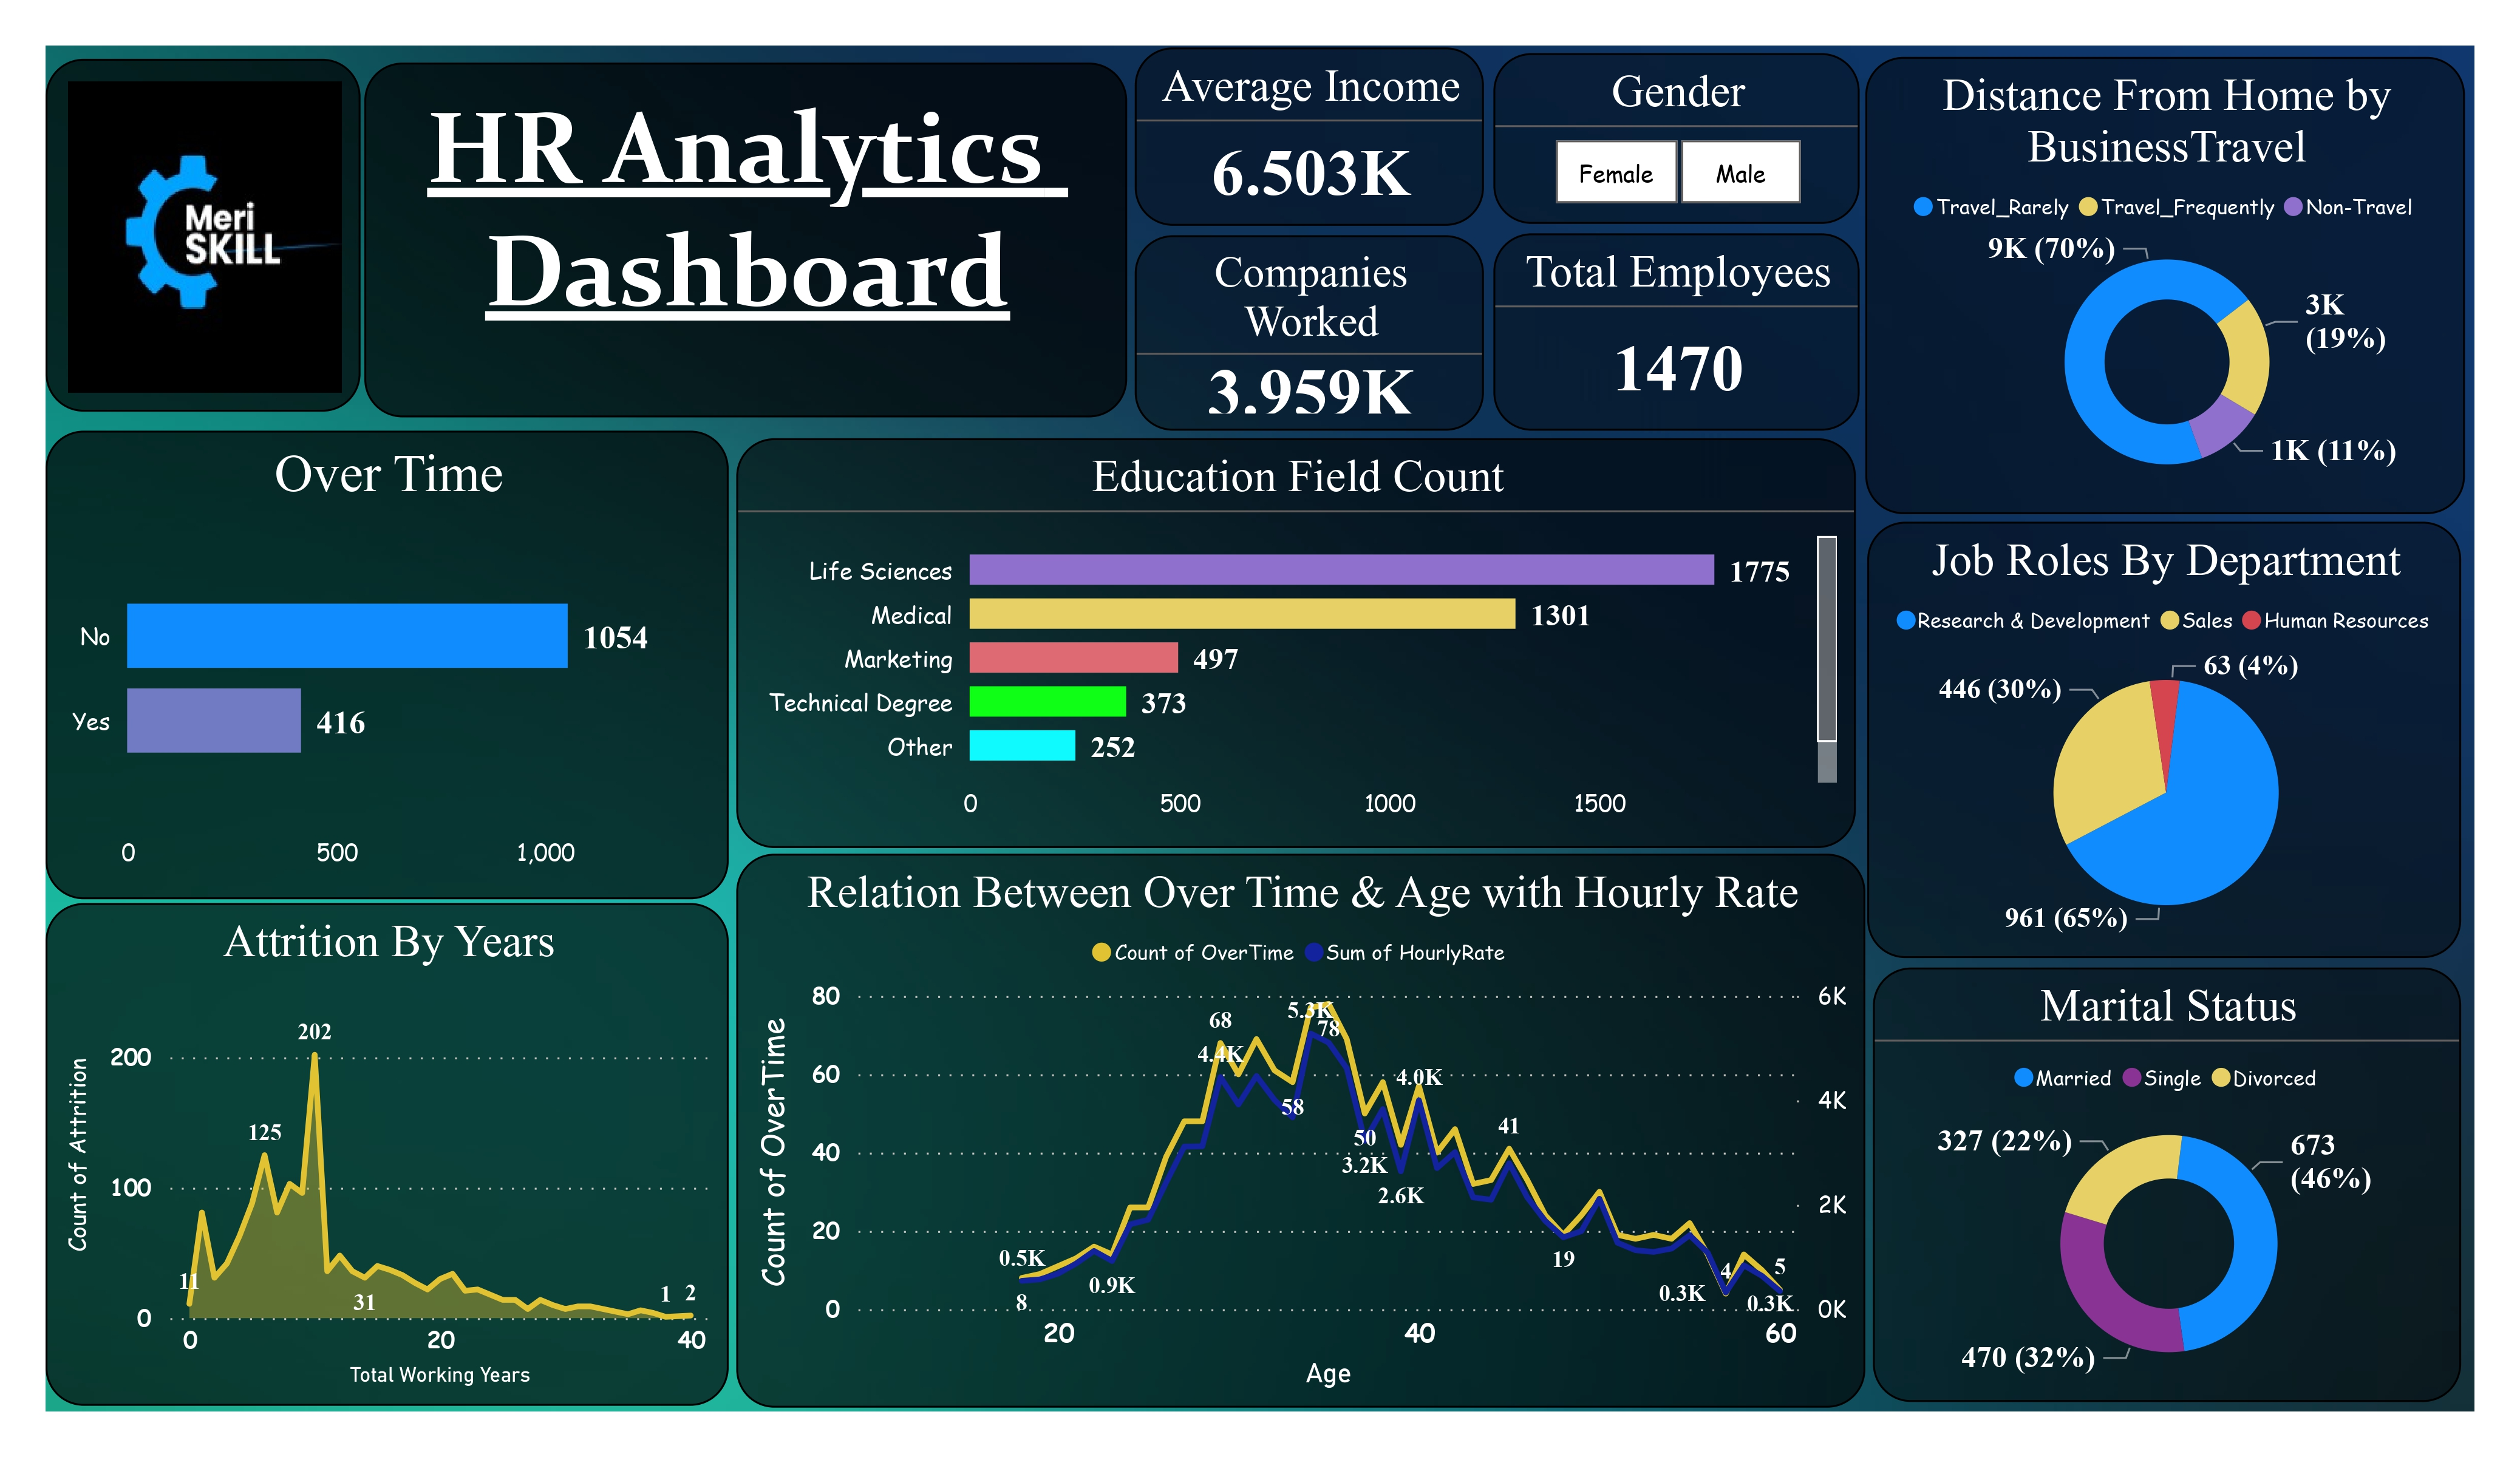

The dashboard page shown, as its layout file describes it:
{"tool":"powerbi","page":{"name":"Page 1","canvas":[1280,720],"ordinal":0},"visuals":[{"type":"card","title":"Total Employees","fields":{"Values":["Sum(HR-Employee-Attrition.EmployeeCount)"]},"box":[762.8,98.6,192.9,104.4],"z":0},{"type":"pieChart","title":"Job Roles By Department","fields":{"Category":["HR-Employee-Attrition.Department"],"Y":["CountNonNull(HR-Employee-Attrition.Department)"]},"box":[960.1,250.9,313,230.6],"z":1000},{"type":"donutChart","title":"Marital Status ","fields":{"Category":["HR-Employee-Attrition.MaritalStatus"],"Y":["CountNonNull(HR-Employee-Attrition.MaritalStatus)"]},"box":[963,485.8,310,229.1],"z":2000},{"type":"card","title":"Average Income","fields":{"Values":["Avg(HR-Employee-Attrition.MonthlyIncome)"]},"box":[574,1,184,94.3],"z":3000},{"type":"clusteredBarChart","title":"Over Time ","fields":{"Category":["HR-Employee-Attrition.OverTime"],"Y":["CountNonNull(HR-Employee-Attrition.OverTime)"]},"box":[0,203,359.7,246.5],"z":4000},{"type":"slicer","title":"Gender","fields":{"Values":["HR-Employee-Attrition.Gender"]},"box":[762.8,4.4,192.9,89.9],"z":5000},{"type":"card","title":"Companies Worked","fields":{"Values":["Sum(HR-Employee-Attrition.NumCompaniesWorked)"]},"box":[574.3,100,184.2,103],"z":6000},{"type":"lineChart","title":"Relation Between  Over Time & Age with Hourly Rate","fields":{"Category":["HR-Employee-Attrition.Age"],"Y":["CountNonNull(HR-Employee-Attrition.OverTime)"],"Y2":["Sum(HR-Employee-Attrition.HourlyRate)"]},"box":[364,426.4,594.6,291.5],"z":7000},{"type":"areaChart","title":" Attrition By Years","fields":{"Category":["HR-Employee-Attrition.TotalWorkingYears"],"Y":["CountNonNull(HR-Employee-Attrition.Attrition)"]},"box":[0,452,359.7,265],"z":8000},{"type":"clusteredBarChart","title":" Education Field Count","fields":{"Category":["HR-Employee-Attrition.EducationField"],"Y":["Sum(HR-Employee-Attrition.Education)"]},"box":[364,207.4,590.3,216.1],"z":9000},{"type":"donutChart","title":"Distance From Home by BusinessTravel","fields":{"Category":["HR-Employee-Attrition.BusinessTravel"],"Y":["Sum(HR-Employee-Attrition.DistanceFromHome)"]},"box":[958.6,5.8,316,241],"z":10000},{"type":"textbox","box":[168,8.7,402,187],"z":11000},{"type":"image","box":[0,7,166,186],"z":12000}]}

Visuals, with their boxes in screenshot pixels (x1, y1, x2, y2):
"Total Employees" card: crop(1493, 233, 1859, 430)
"Job Roles By Department" pieChart: crop(1867, 521, 2461, 959)
"Marital Status " donutChart: crop(1873, 967, 2461, 1402)
"Average Income" card: crop(1135, 47, 1484, 226)
"Over Time " clusteredBarChart: crop(46, 430, 728, 898)
"Gender" slicer: crop(1493, 54, 1859, 225)
"Companies Worked" card: crop(1136, 236, 1485, 430)
"Relation Between  Over Time & Age with Hourly Rate" lineChart: crop(736, 855, 1865, 1407)
" Attrition By Years" areaChart: crop(46, 903, 728, 1406)
" Education Field Count" clusteredBarChart: crop(736, 439, 1856, 849)
"Distance From Home by BusinessTravel" donutChart: crop(1865, 56, 2464, 514)
textbox: crop(364, 62, 1127, 417)
image: crop(46, 59, 361, 412)
